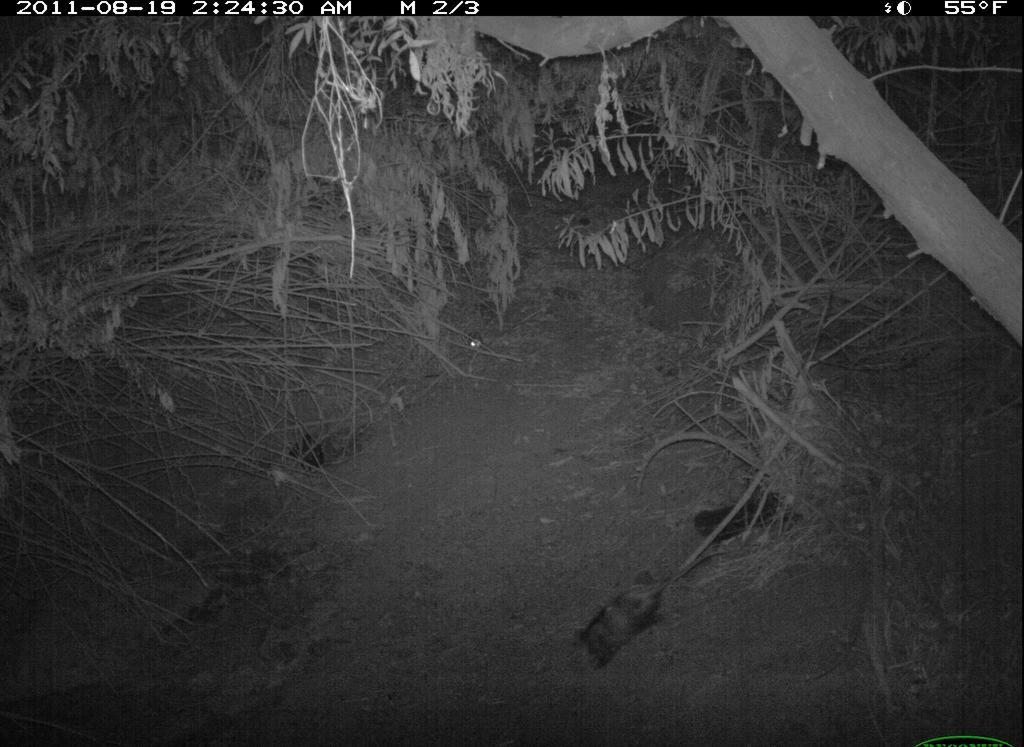opossum: (552, 545, 716, 716)
